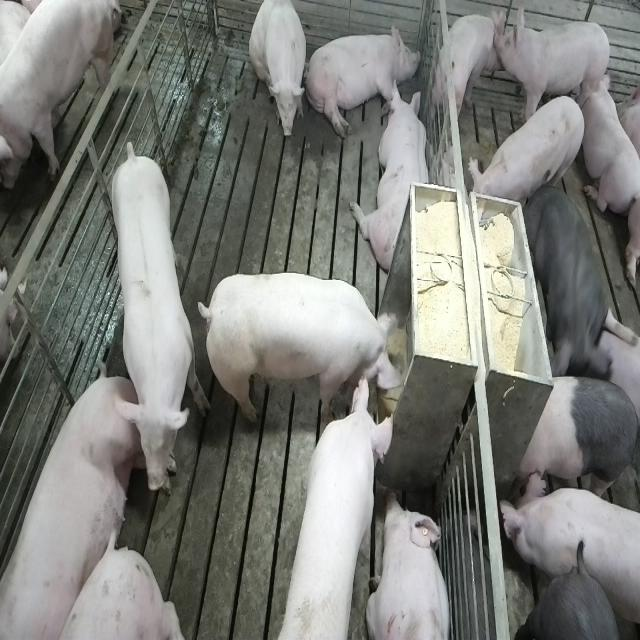Feeding: (197, 268, 409, 429), (276, 366, 393, 633)
Lateral_lying: (304, 20, 421, 140)
Sitting: (249, 1, 308, 146)
Standing: (105, 137, 202, 496), (499, 468, 638, 636), (0, 0, 117, 194), (524, 181, 609, 383), (514, 371, 638, 509), (472, 95, 589, 215), (515, 568, 627, 638), (437, 13, 501, 130)
Sternal_lying: (354, 80, 432, 274), (368, 492, 454, 640), (580, 70, 637, 219)
